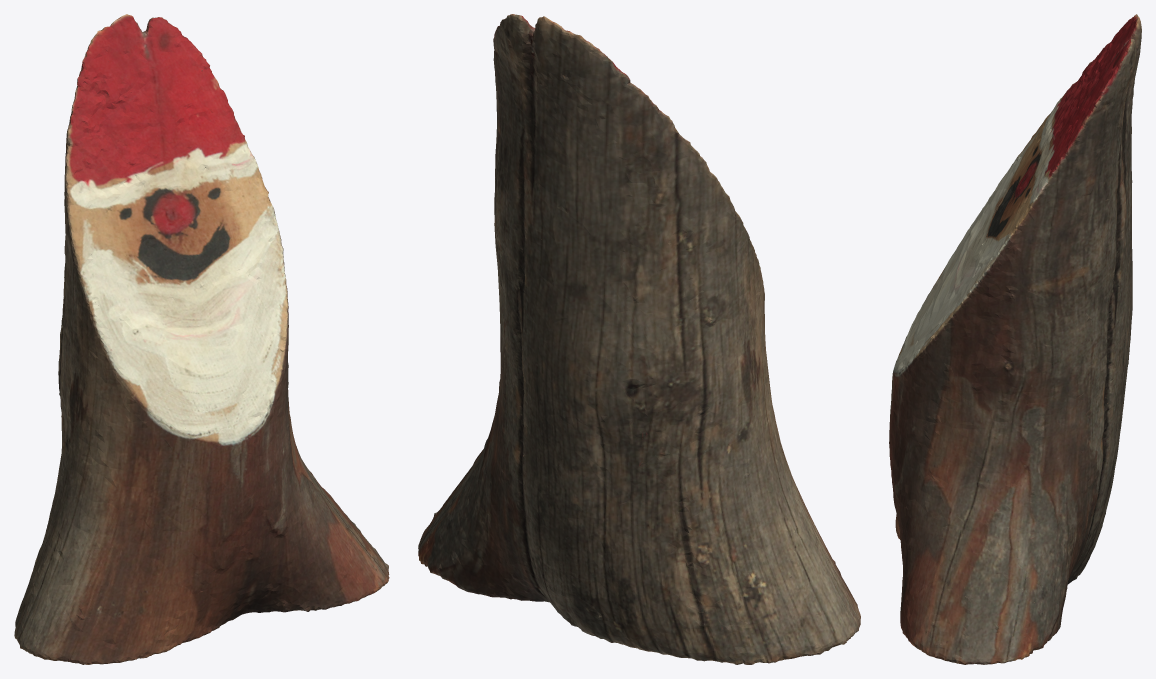
Rendered from santa_painted_wooden_statue.glb.
3 views of the same model, side by side, from view 1: azimuth 30°, elevation 25°; view 2: azimuth 150°, elevation 25°; view 3: azimuth 270°, elevation 25° (orthographic). The views are drawn at different scales.
Visible parts, largest first — view 1: santa_painted_wooden_statue; view 2: santa_painted_wooden_statue; view 3: santa_painted_wooden_statue.
Part boxes in pixels (x1,y1,x2,y2): santa_painted_wooden_statue: [14, 14, 389, 664]; santa_painted_wooden_statue: [418, 14, 860, 664]; santa_painted_wooden_statue: [889, 14, 1141, 664].
Bounding box in the file's own units: 0.1725 × 0.2502 × 0.1021.
1 material, 1 textured.
